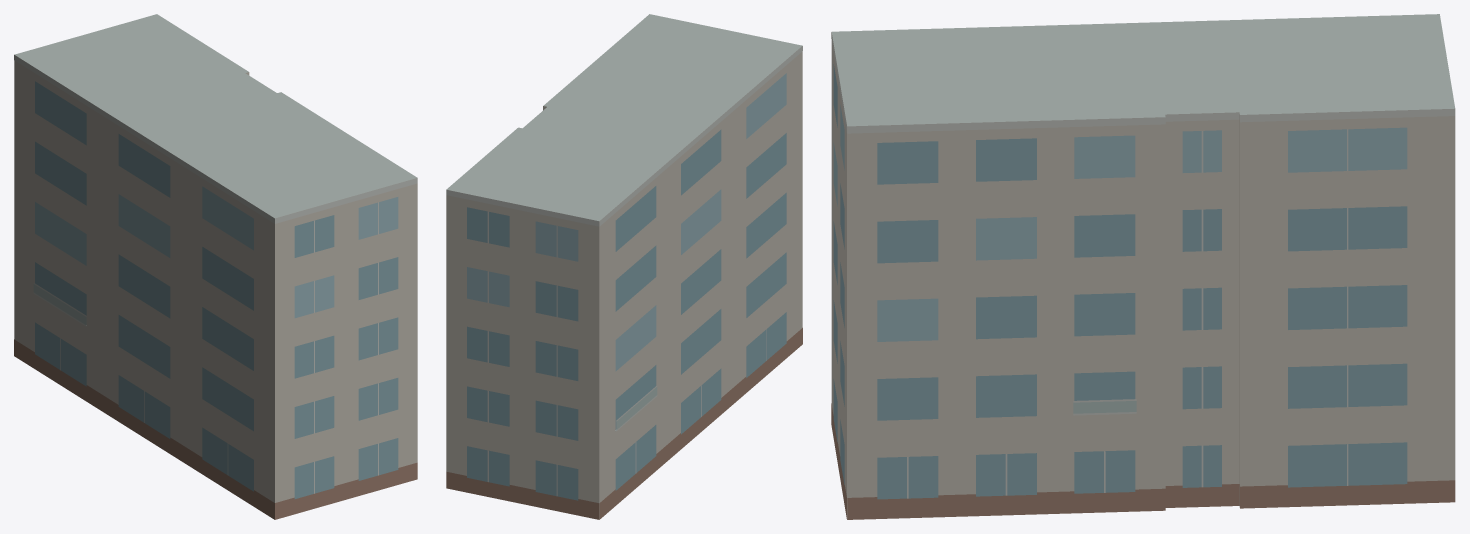
Rendered from survey-upis-32723114.glb.
3 views of the same model, side by side, from view 1: azimuth 30°, elevation 25°; view 2: azimuth 150°, elevation 25°; view 3: azimuth 270°, elevation 25° (orthographic). The views are drawn at different scales.
Parts seen in each view (by area): view 1: survey-upis-32723114.tmp; view 2: survey-upis-32723114.tmp; view 3: survey-upis-32723114.tmp.
Boxes of the visible parts, x1,y1,x2,y2 form: survey-upis-32723114.tmp: [14, 14, 417, 519]; survey-upis-32723114.tmp: [446, 14, 802, 519]; survey-upis-32723114.tmp: [831, 14, 1455, 519].
Bounding box in the file's own units: 8.16 × 13.3 × 19.12.
